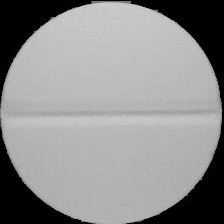0615-7618: (0, 0, 224, 224)
